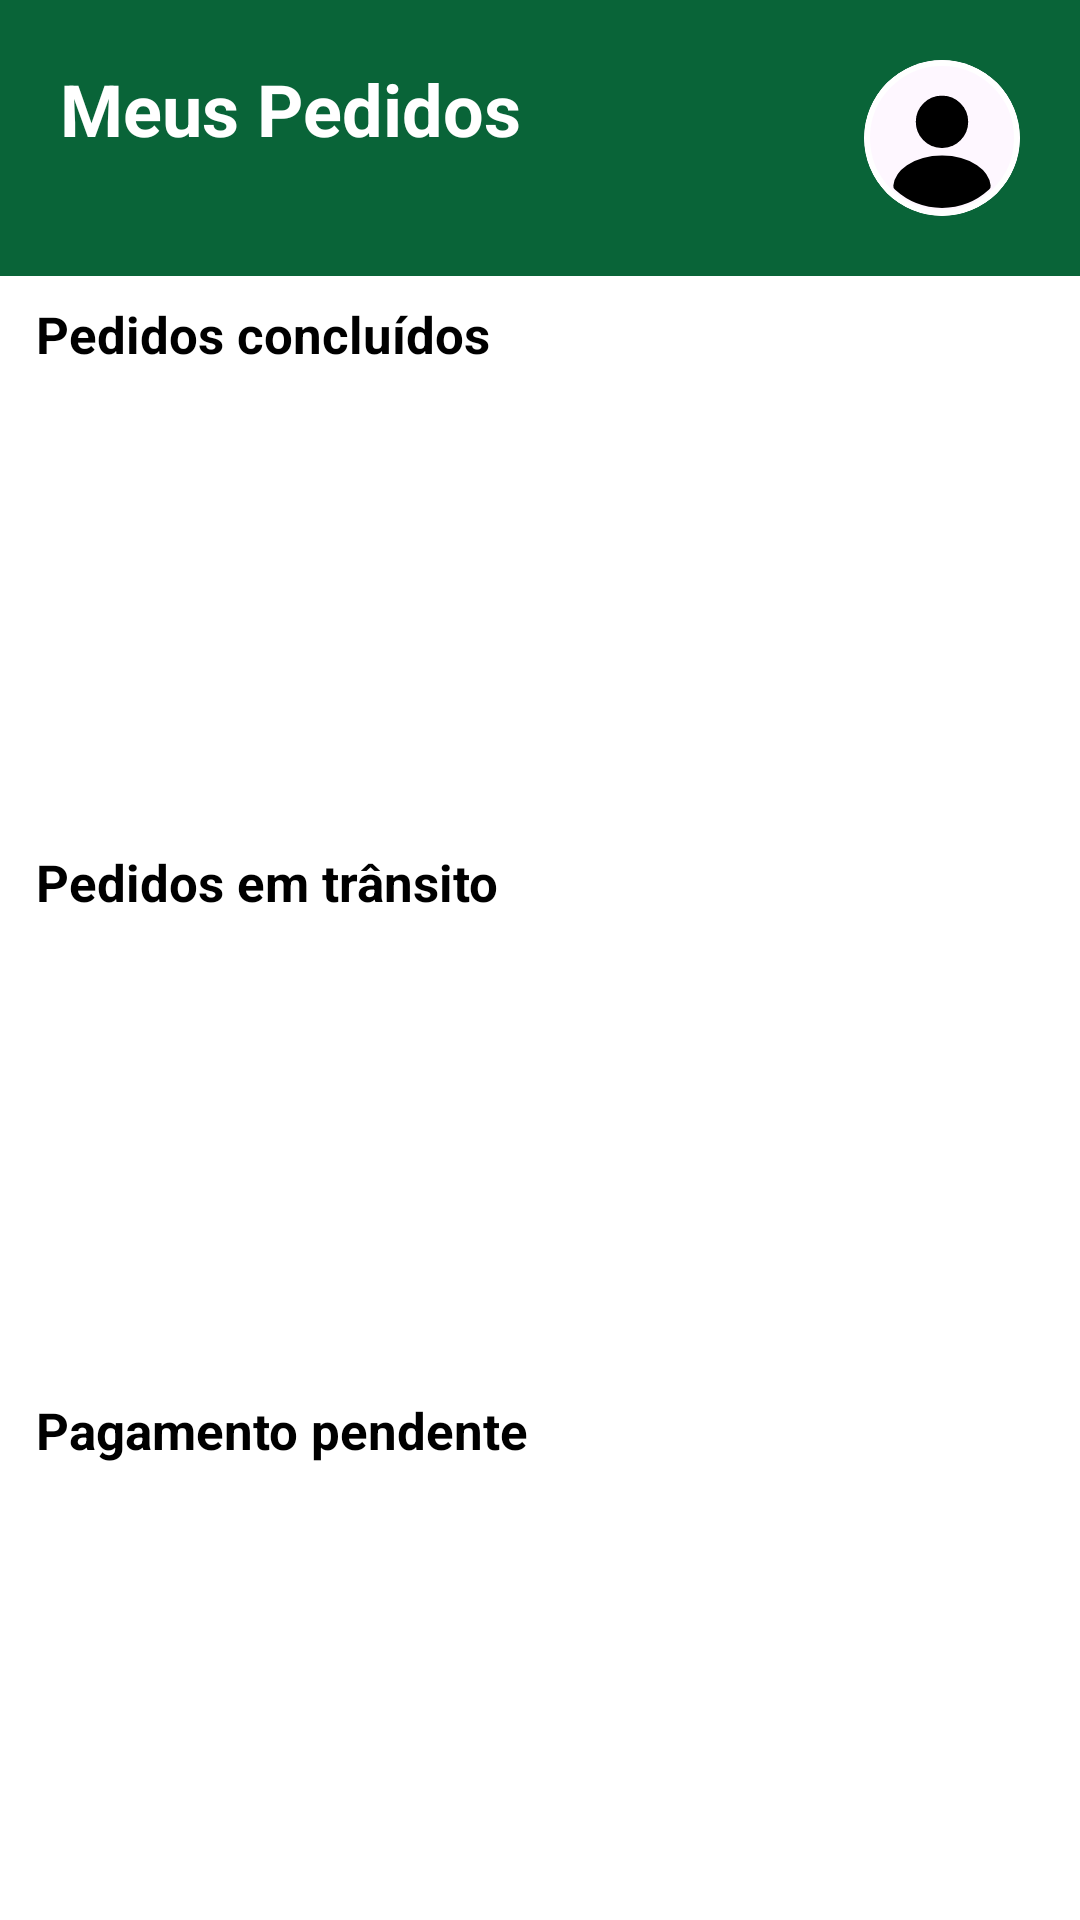

Where icons sit on this 1080 × 1920 app screen, as (x1, y1, x2, y2):
perfil: (864, 60, 1020, 216)
